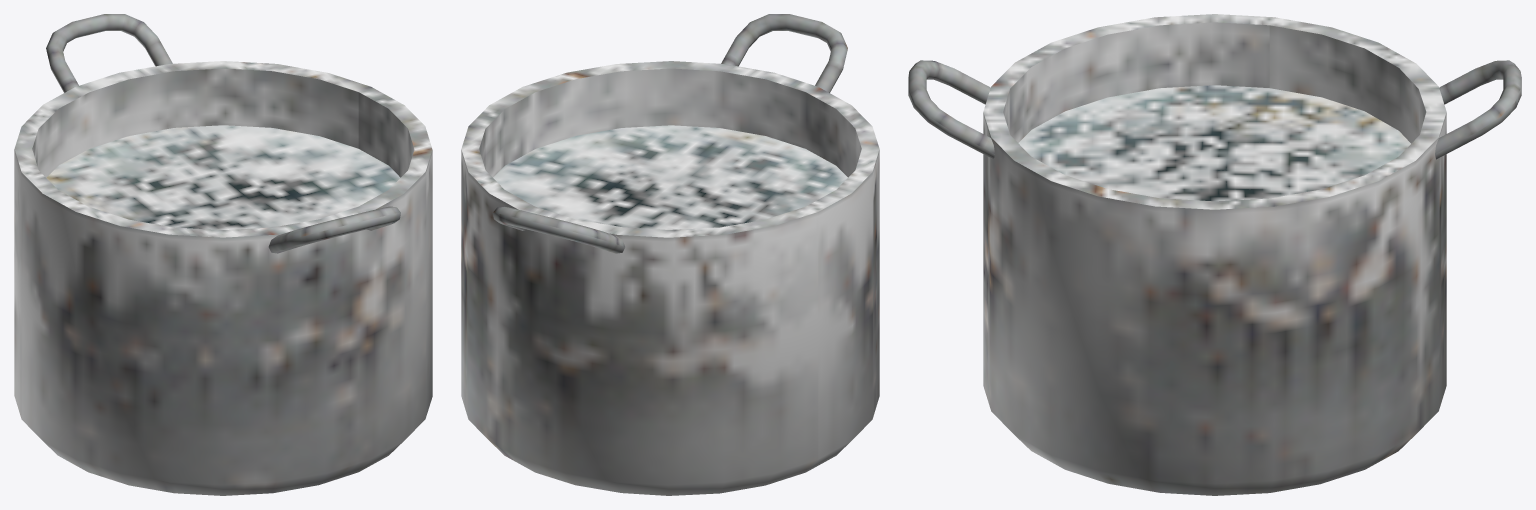
The model's file is ammomaker_PotOfBirdExcrement.fbx.
3 views of the same model, side by side, from view 1: azimuth 30°, elevation 25°; view 2: azimuth 150°, elevation 25°; view 3: azimuth 270°, elevation 25° (orthographic). The views are drawn at different scales.
Visible parts, largest first — view 1: ammomaker_PotOfBirdExcrement; view 2: ammomaker_PotOfBirdExcrement; view 3: ammomaker_PotOfBirdExcrement.
Boxes of the visible parts, box(x1,y1,x2,y2) form: ammomaker_PotOfBirdExcrement: box(14, 14, 432, 495); ammomaker_PotOfBirdExcrement: box(461, 14, 879, 495); ammomaker_PotOfBirdExcrement: box(908, 14, 1521, 495).
Bounding box in the file's own units: 12.43 × 9.78 × 16.46.
